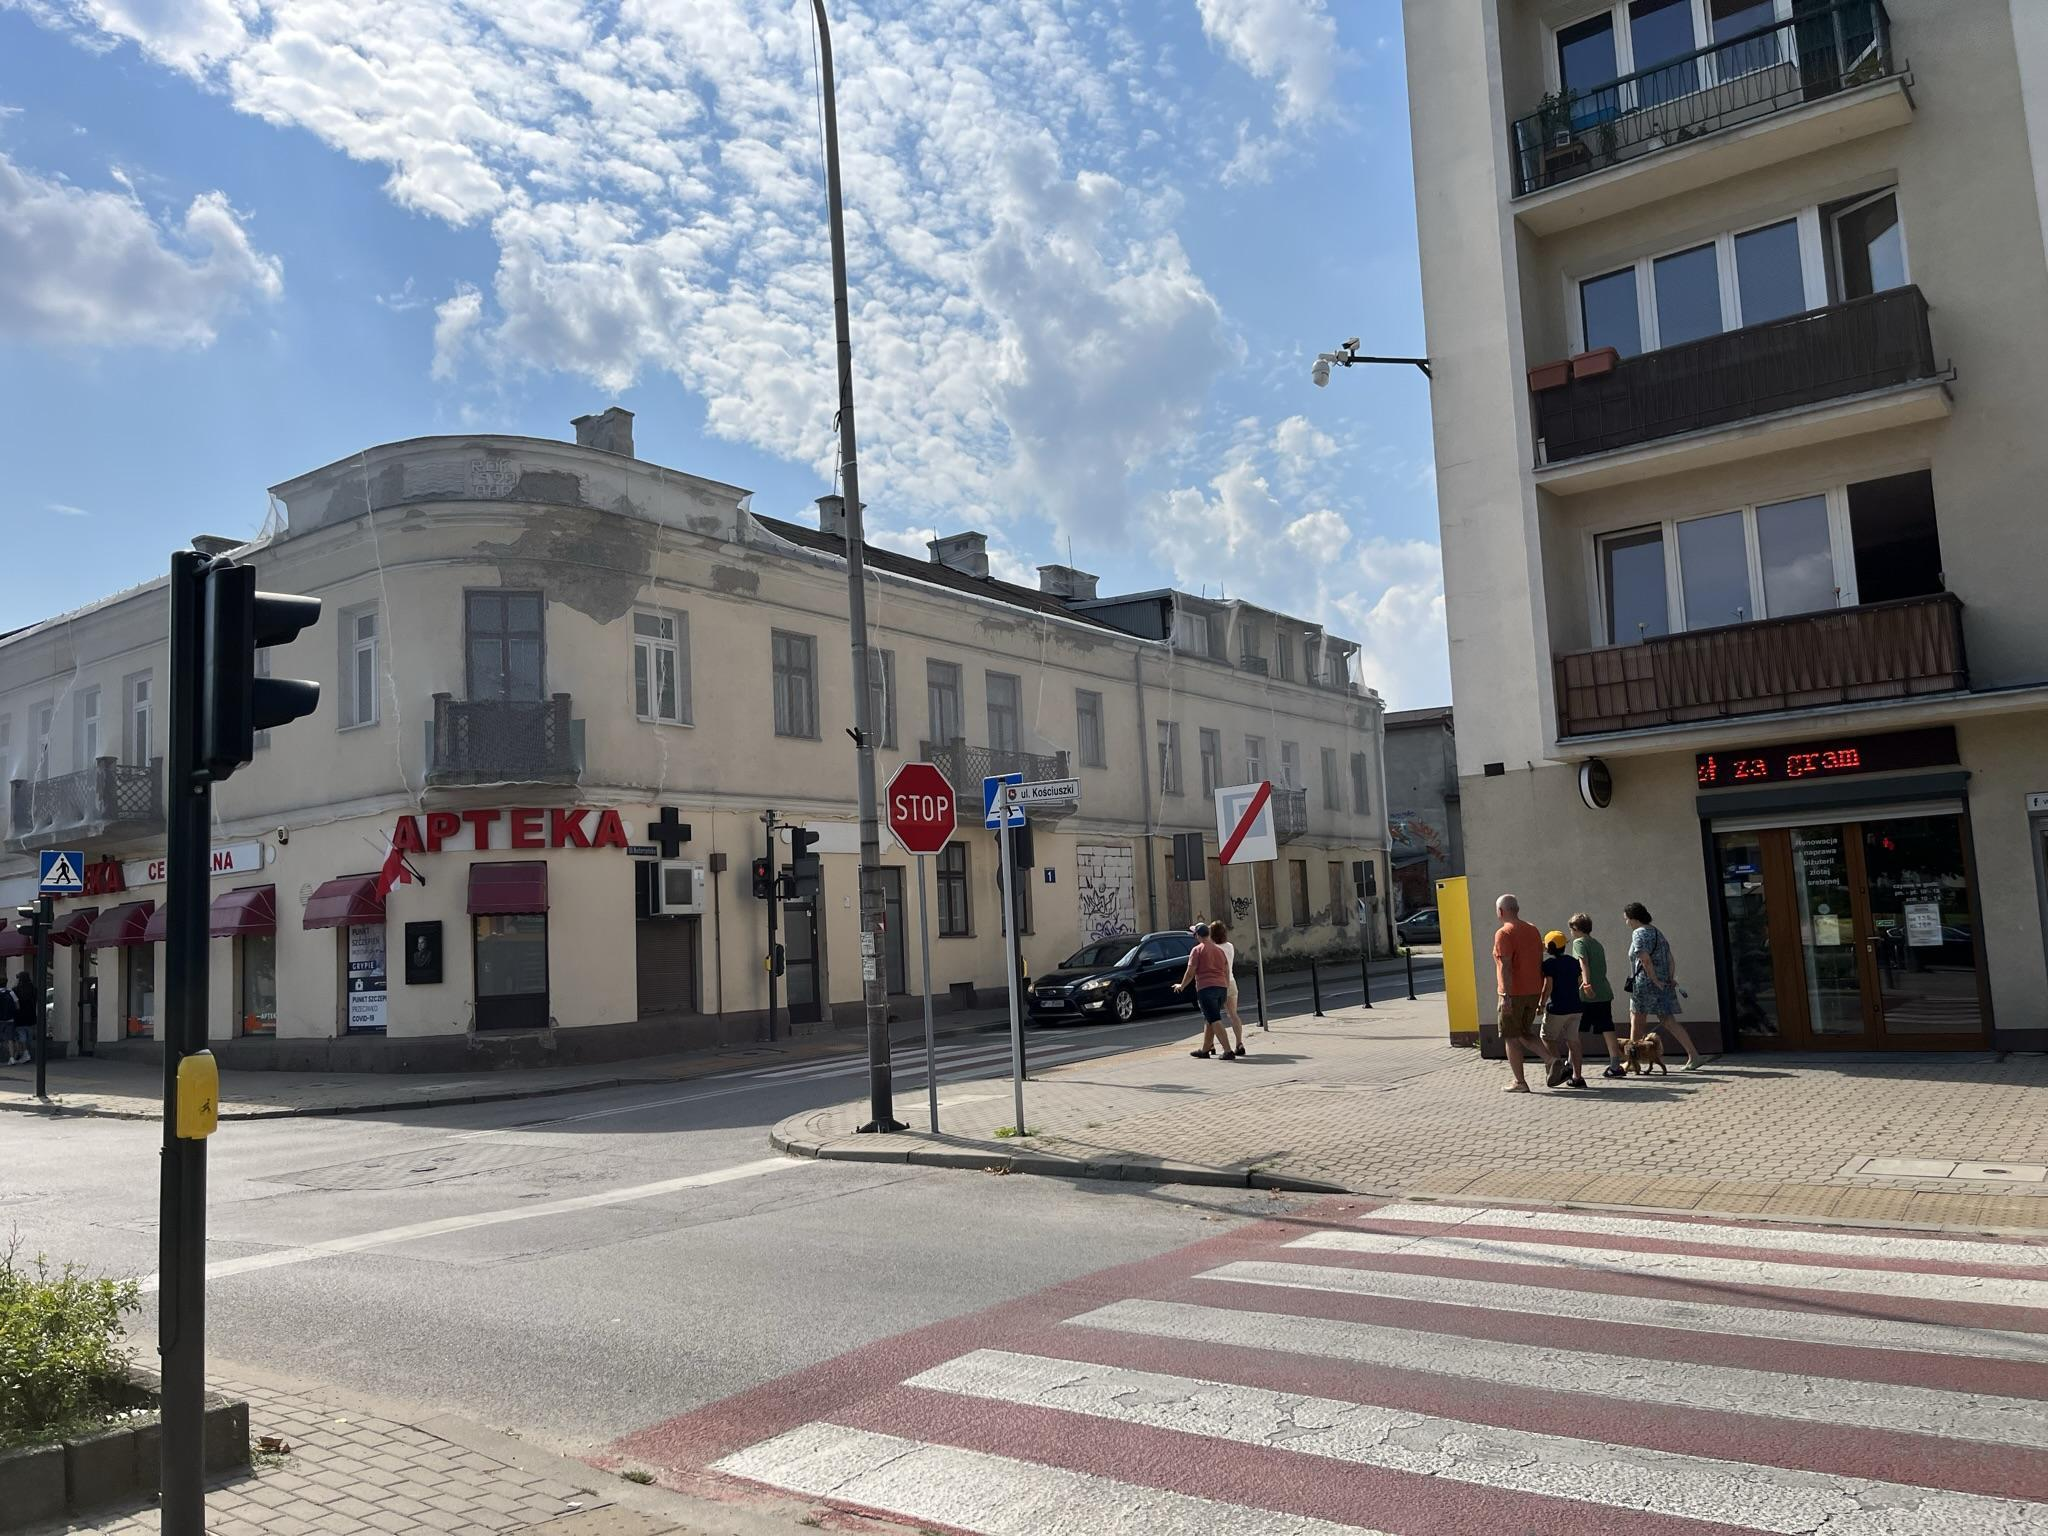information: (39, 850, 85, 892)
prohibitory: (887, 760, 958, 855)
